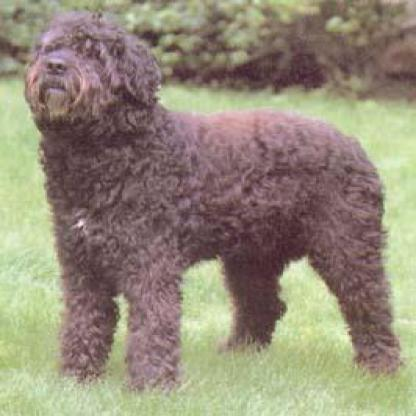Bouvier_des_Flandres: (12, 1, 402, 394)
